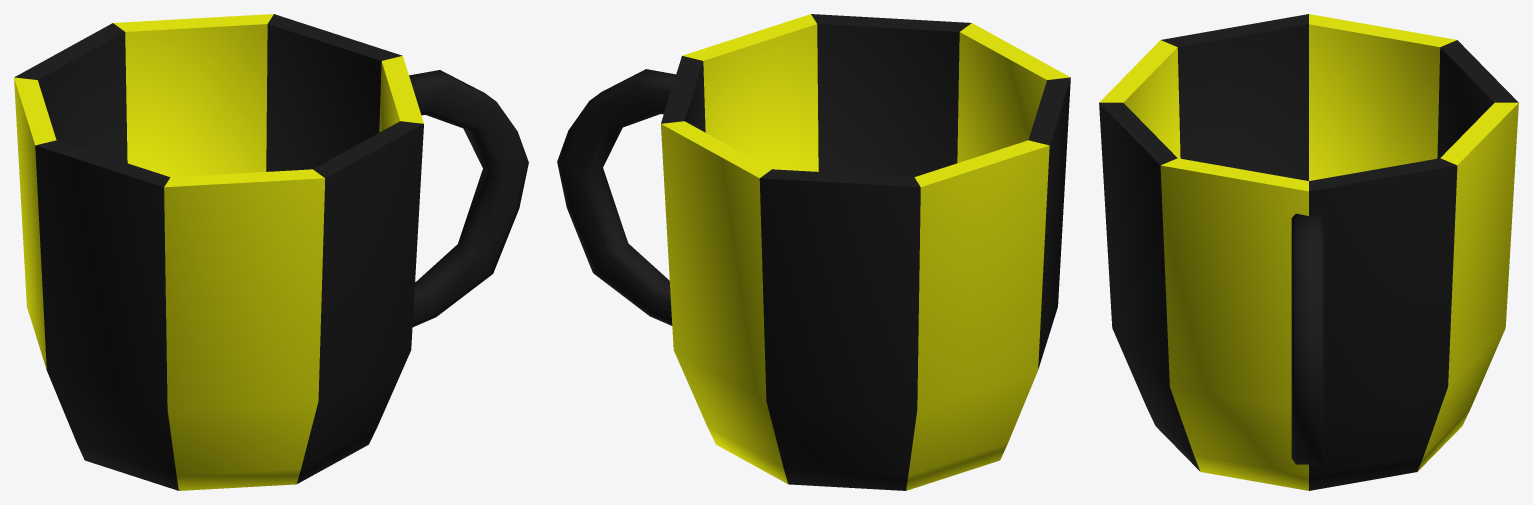
Rendered from Coffee_Cup_06.FBX.
The picture shows the model from 3 angles, left to right: view 1: azimuth 30°, elevation 25°; view 2: azimuth 150°, elevation 25°; view 3: azimuth 270°, elevation 25°; orthographic projection.
Parts seen in each view (by area): view 1: Coffee Cup; view 2: Coffee Cup; view 3: Coffee Cup.
Boxes of the visible parts, left/top/right/bottom form: Coffee Cup: left=14, top=14, right=528, bottom=490; Coffee Cup: left=557, top=14, right=1070, bottom=490; Coffee Cup: left=1099, top=14, right=1518, bottom=490.
Bounding box in the file's own units: 44.01 × 28.24 × 33.22.
